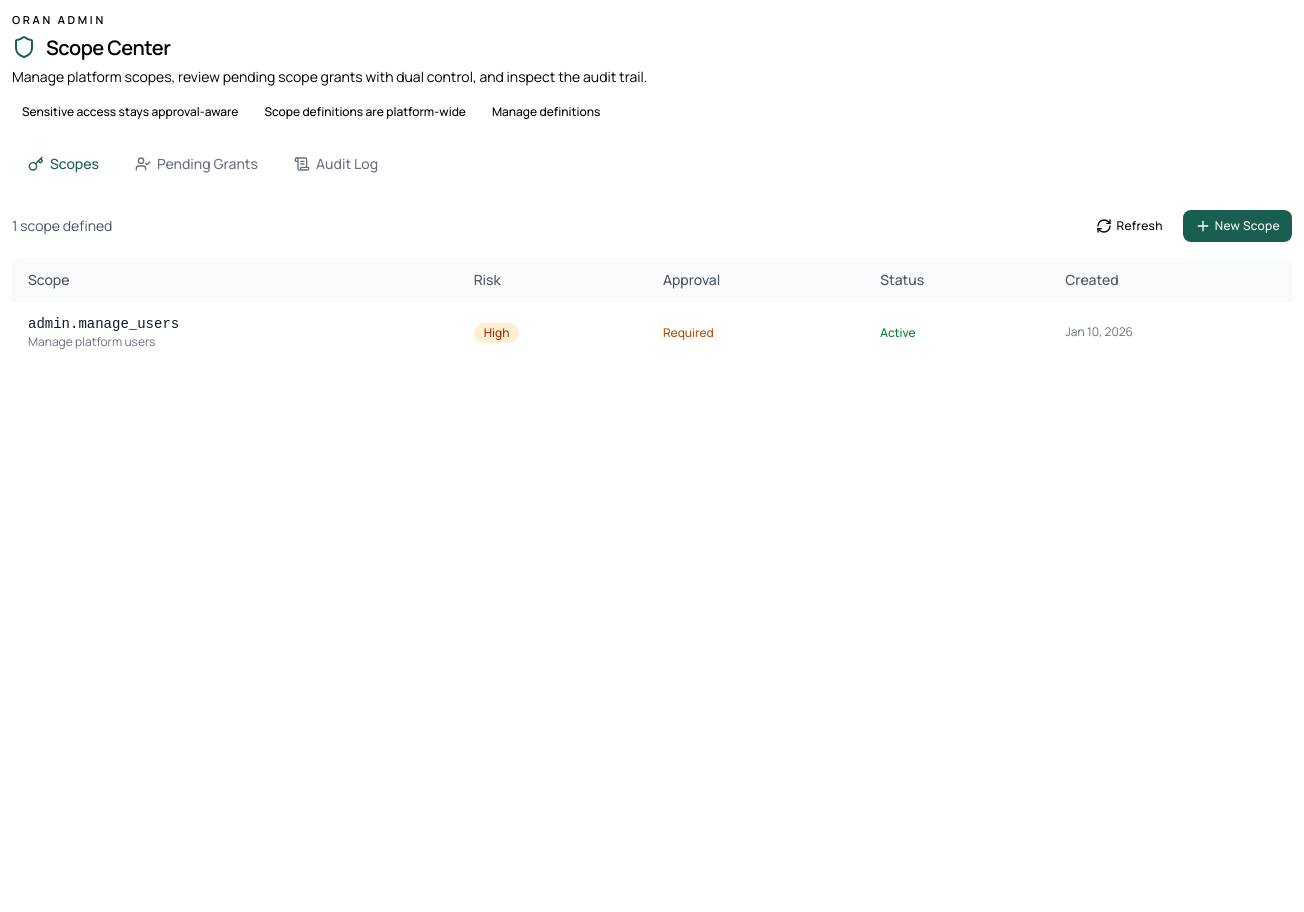
Scenario: oran admin scope center page › reviews and approves a pending grant
Expected: the text "admin.manage_users" is shown, [28,316,179,332]
Click the tab "Pending Grants".
click(197, 164)  # box [119,142,274,186]
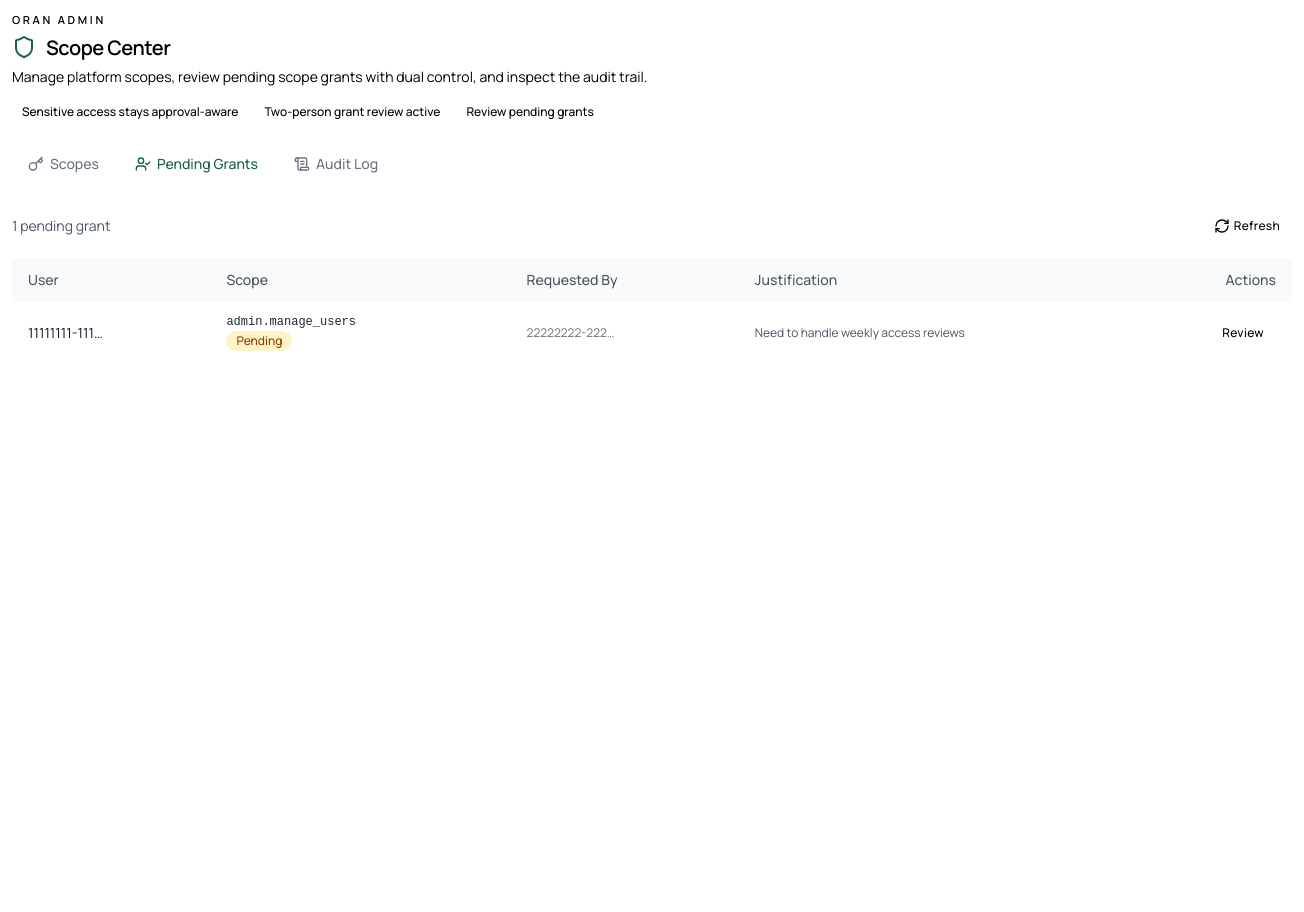
Expected: the text "Need to handle weekly access reviews" is shown, [739,302,1110,363]
Click the button "Review".
click(1243, 333)  # box [1210,317,1276,349]
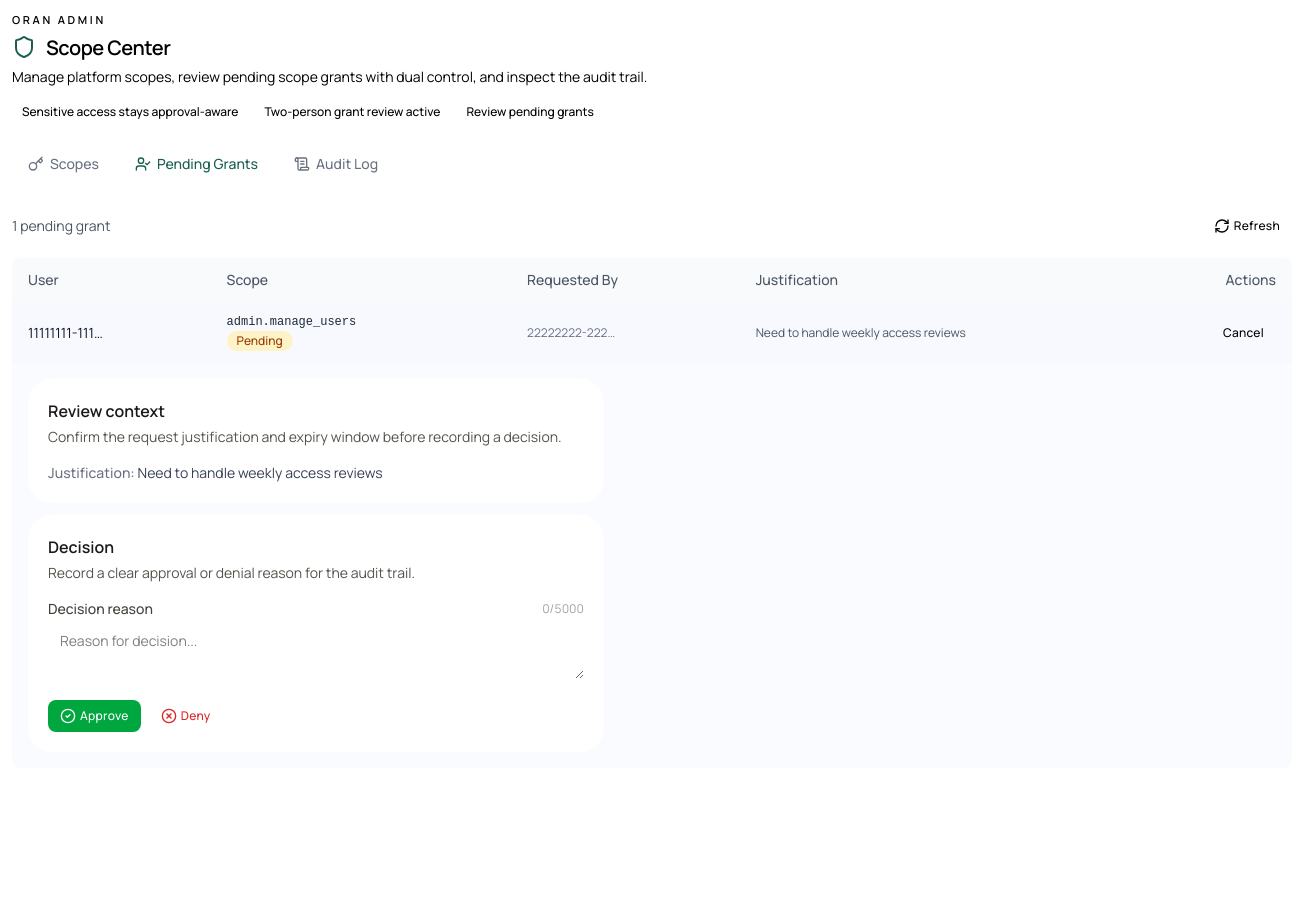
Expected: the button "Approve" is disabled, [48,700,141,732]
Type "Approved after secondary review." into the text box labelled "Decision reason".
click(316, 651); type("Approved after secondary review.")  # box [48,623,584,679]
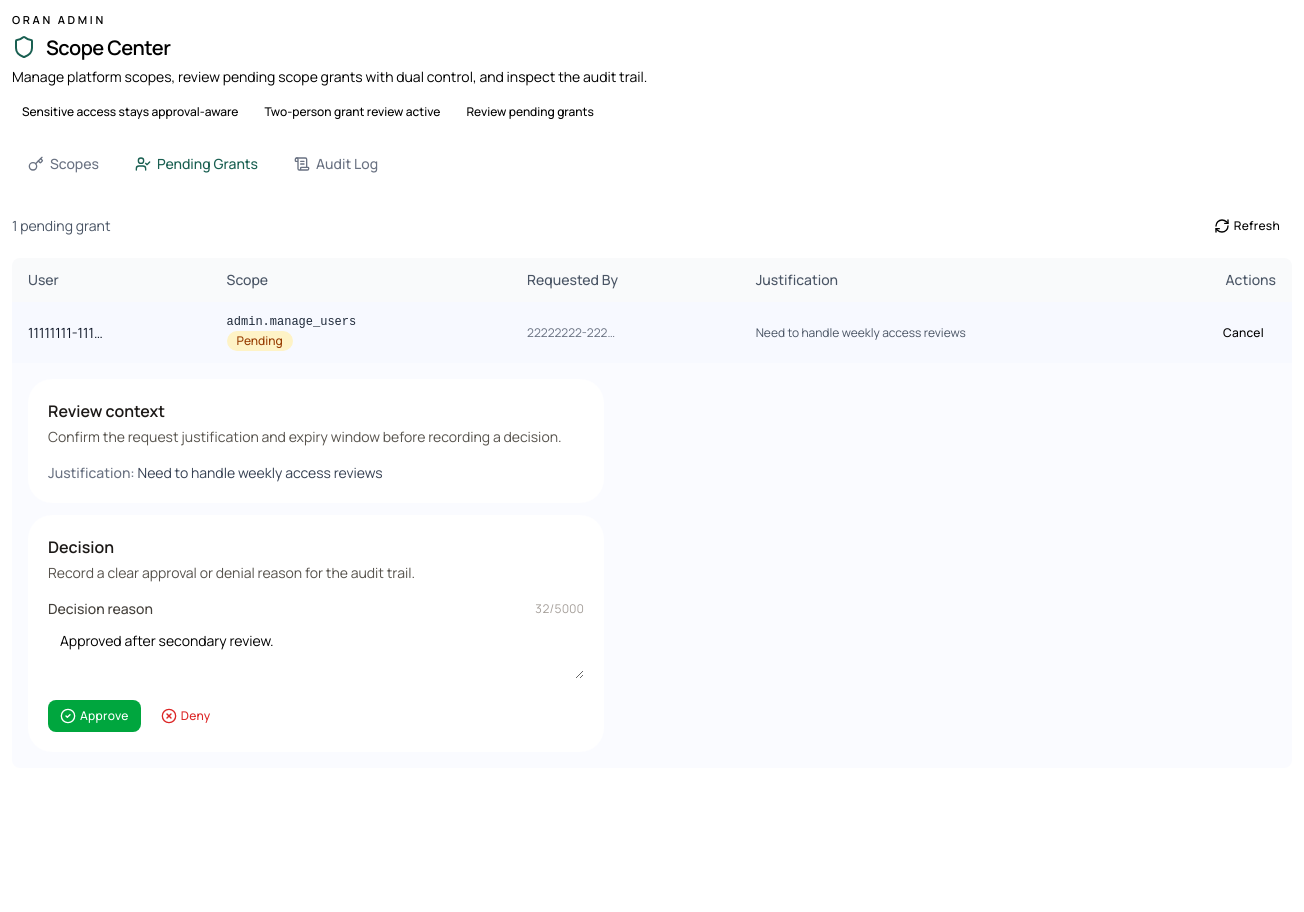
Click the button "Approve".
click(94, 716)  # box [48,700,141,732]
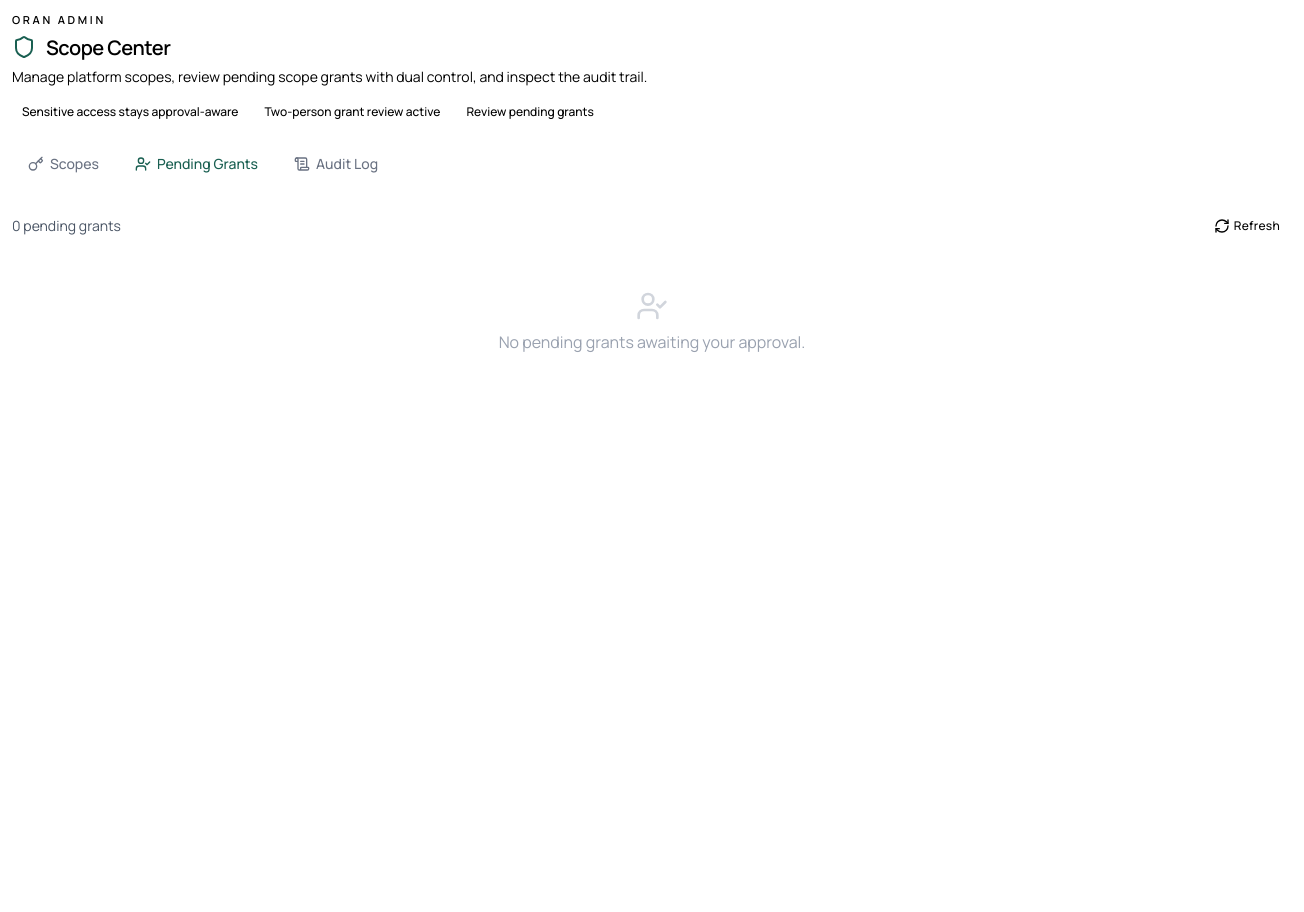
Expected: the text "No pending grants awaiting your approval." is shown, [499,331,805,353]
